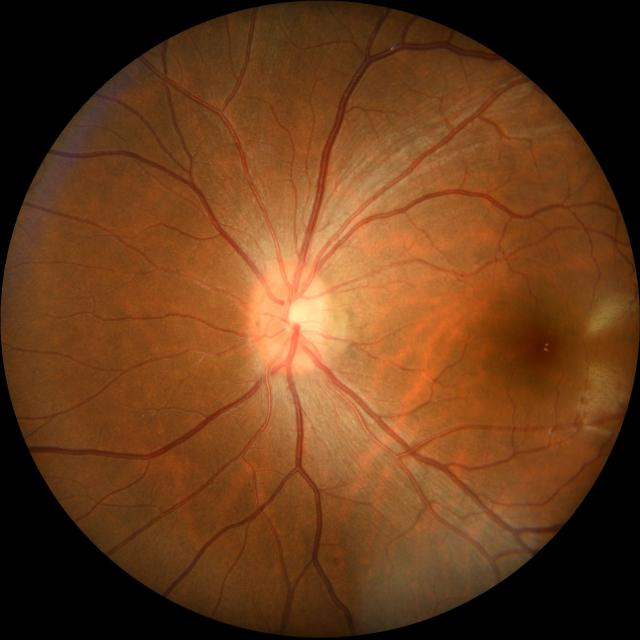OC: (286, 296, 318, 335)
OD: (248, 264, 330, 372)
